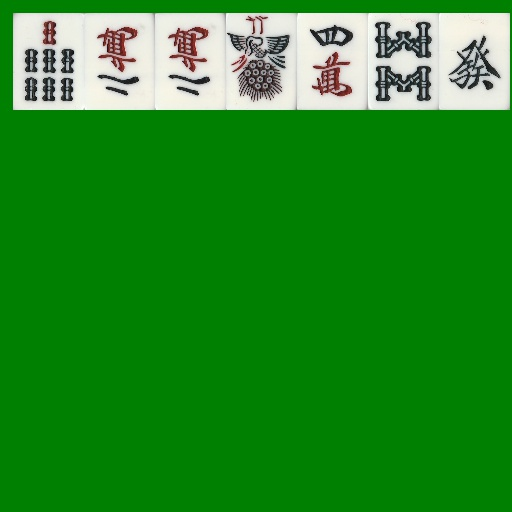1s: (226, 13, 297, 110)
2m: (84, 13, 155, 110), (155, 13, 226, 110)
4m: (297, 13, 368, 110)
7s: (13, 13, 84, 110)
8s: (368, 13, 439, 110)
hatsu: (439, 13, 510, 110)
